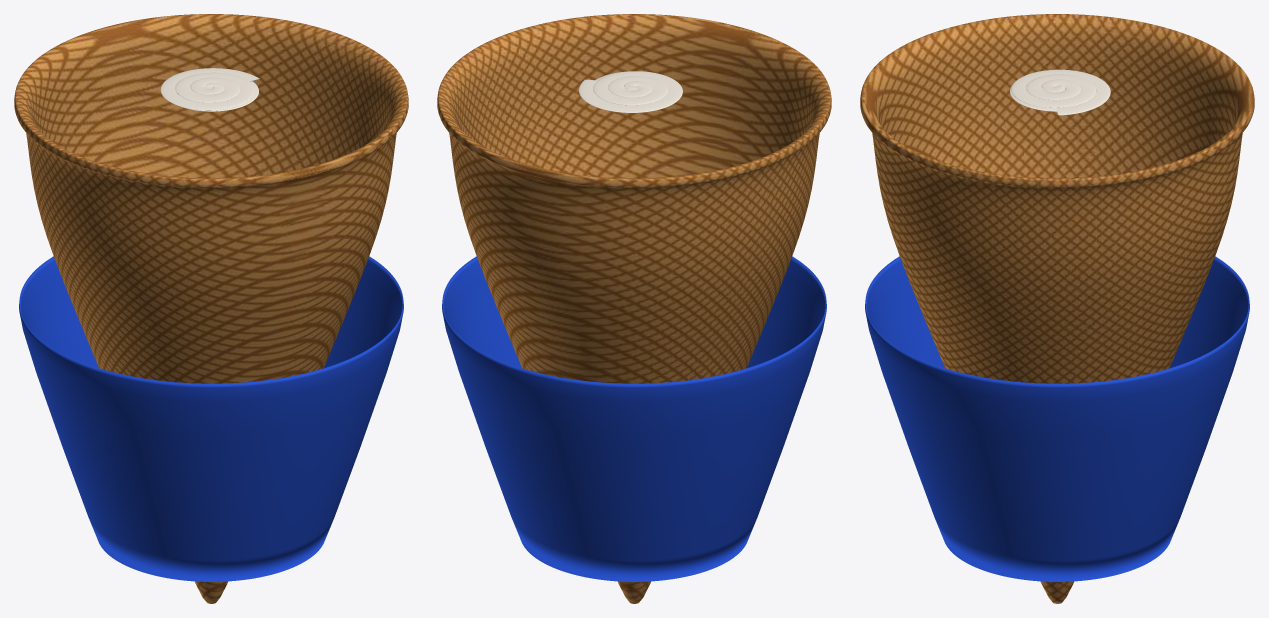
Rendered from bravo.glb.
3 views of the same model, side by side, from view 1: azimuth 30°, elevation 25°; view 2: azimuth 150°, elevation 25°; view 3: azimuth 270°, elevation 25° (orthographic).
Visible parts, largest first — view 1: cone, sleeve, cream.001; view 2: cone, sleeve, cream.001; view 3: cone, sleeve, cream.001.
Part boxes in pixels (x1=…): cone: x1=14, y1=14, x2=408, y2=603; sleeve: x1=19, y1=256, x2=403, y2=581; cream.001: x1=160, y1=68, x2=259, y2=111; cone: x1=437, y1=14, x2=831, y2=603; sleeve: x1=442, y1=256, x2=826, y2=581; cream.001: x1=579, y1=71, x2=682, y2=112; cone: x1=860, y1=14, x2=1254, y2=603; sleeve: x1=865, y1=256, x2=1249, y2=581; cream.001: x1=1010, y1=69, x2=1110, y2=115.
Size of what is drawn, in the model's own units: 1.36 by 1.97 by 1.36.
Materials: 3 (3 with a texture image).
